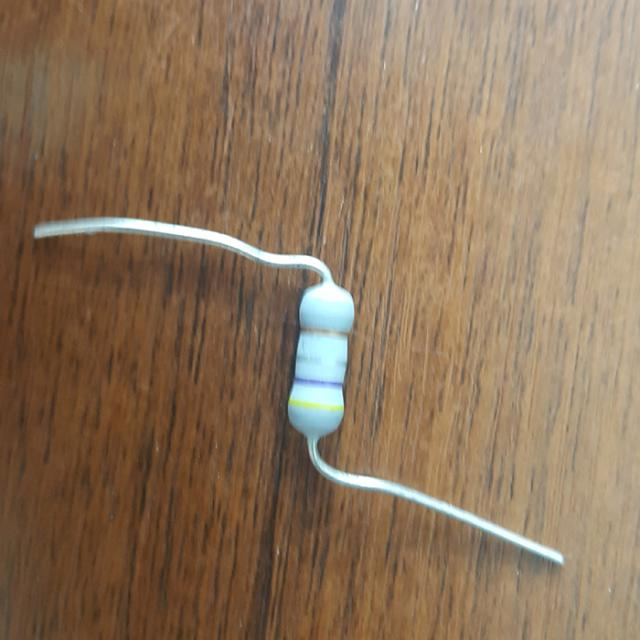Resistor Carbon-Film: (283, 280, 359, 438)
